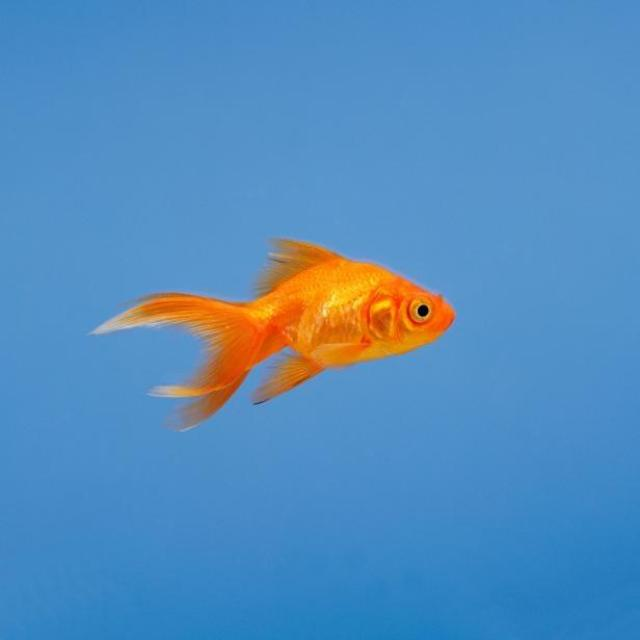GoldFish: (84, 226, 458, 432)
